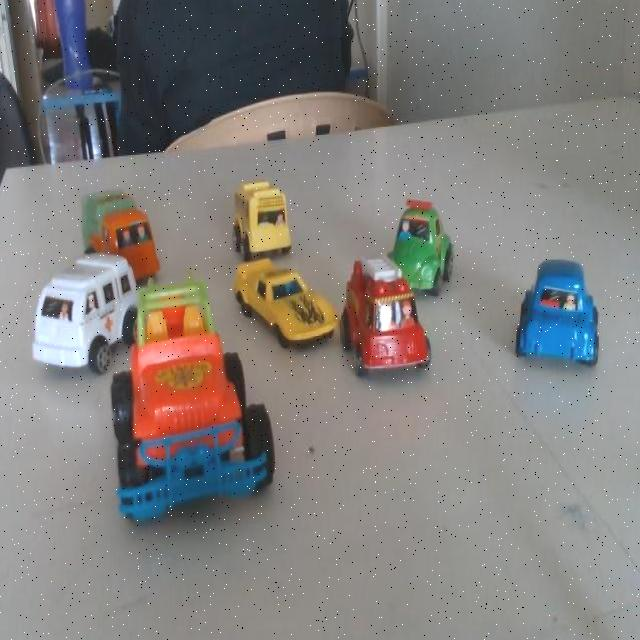car: (114, 332, 280, 537), (512, 254, 606, 377), (347, 257, 433, 386), (232, 255, 337, 358), (29, 264, 127, 368), (83, 185, 160, 277), (388, 202, 459, 297), (238, 171, 298, 256)
